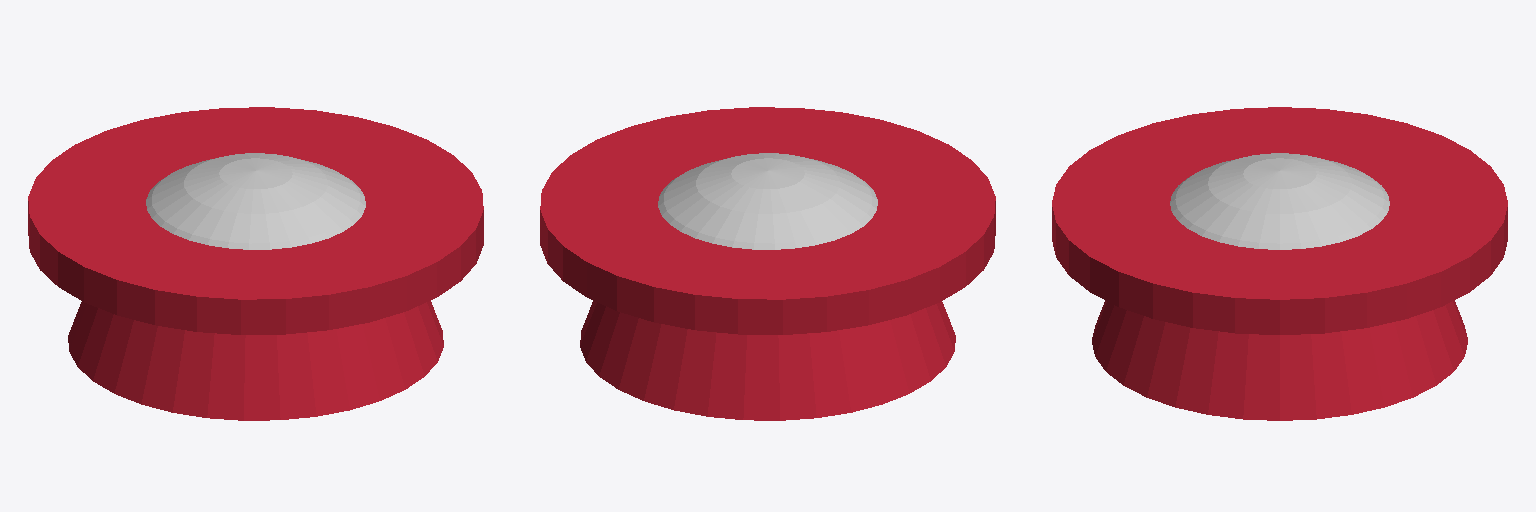
File: pin.obj
3 renders of one model, left to right at view 1: azimuth 30°, elevation 25°; view 2: azimuth 150°, elevation 25°; view 3: azimuth 270°, elevation 25°, orthographic.
Visible parts, largest first — view 1: Circle, Sphere; view 2: Circle, Sphere; view 3: Circle, Sphere.
Part boxes in pixels (x1,y1,x2,y2): Circle: (28,107,483,420); Sphere: (146,153,365,249); Circle: (540,107,995,420); Sphere: (658,153,877,249); Circle: (1052,107,1507,420); Sphere: (1170,153,1389,249).
Size of the model in its own units: 2.42 by 1 by 2.42.